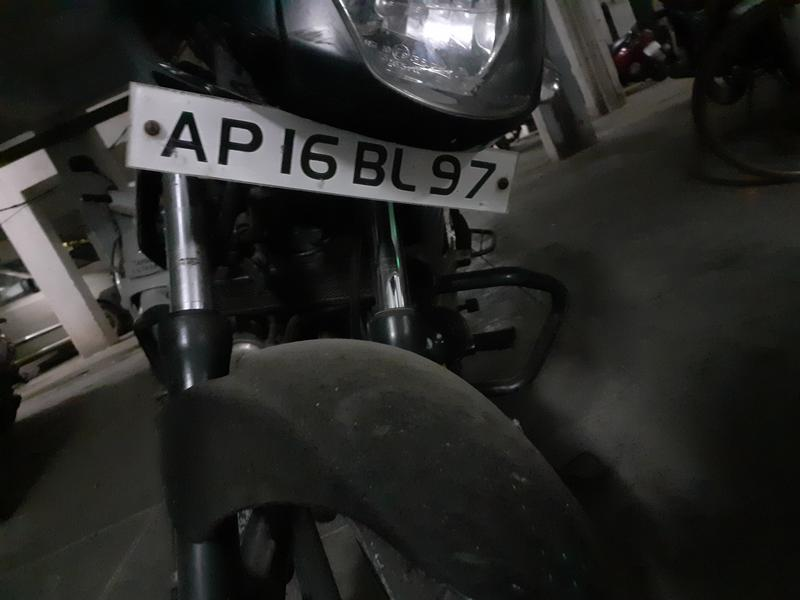numberplate: (127, 95, 571, 237)
